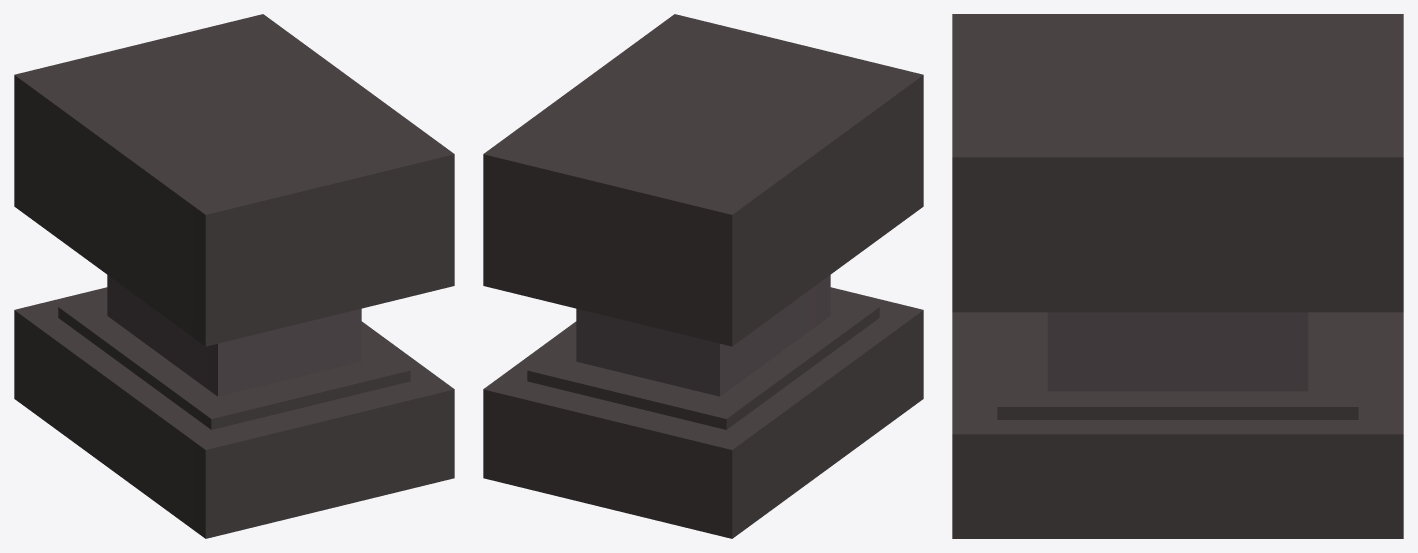
File: Anvil.fbx
3 renders of one model, left to right at view 1: azimuth 30°, elevation 25°; view 2: azimuth 150°, elevation 25°; view 3: azimuth 270°, elevation 25°, orthographic. The views are drawn at different scales.
Visible parts, largest first — view 1: Cube.003; view 2: Cube.003; view 3: Cube.003.
Boxes of the visible parts, x1,y1,x2,y2 form: Cube.003: [14, 14, 454, 538]; Cube.003: [483, 14, 923, 538]; Cube.003: [952, 14, 1403, 538].
Size of the model in its own units: 200 by 249 by 266.
